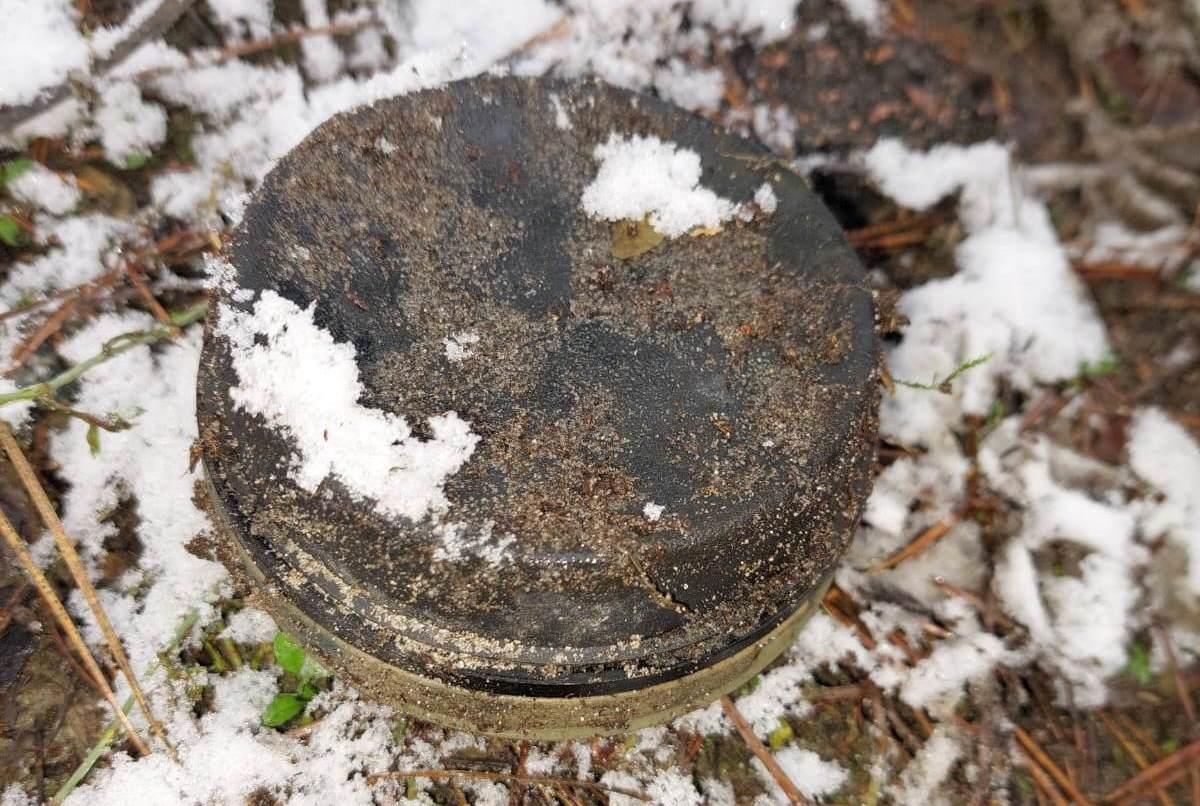pmn: (191, 66, 886, 746)
